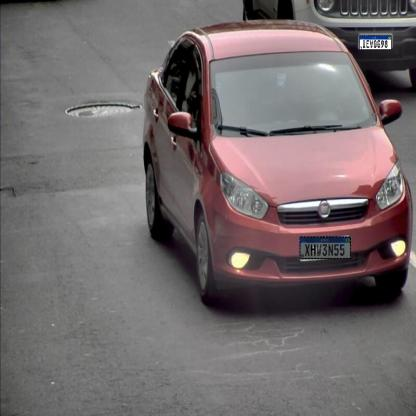PlacaM: (300, 236, 351, 260), (360, 35, 392, 50)
